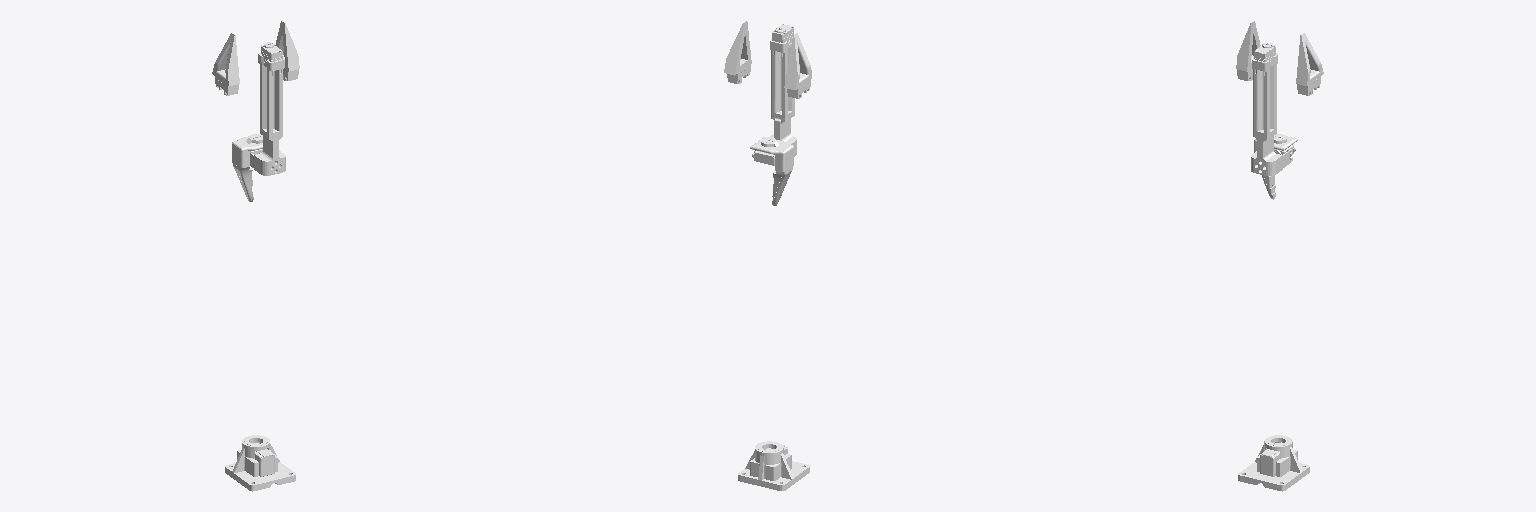
URDF robot description (follower):
<?xml version="1.0" encoding="utf-8"?>
<!-- This URDF was automatically created by SolidWorks to URDF Exporter! Originally created by Stephen Brawner (brawner@gmail.com)
     Commit Version: 1.6.0-4-g7f85cfe  Build Version: 1.6.7995.38578
     For more information, please see http://wiki.ros.org/sw_urdf_exporter -->
<robot
  name="follower">
  <link
    name="base_link">
    <inertial>
      <origin
        xyz="0.00068288 -0.00079484 0.029085"
        rpy="0 0 0" />
      <mass
        value="0.1139" />
      <inertia
        ixx="5.834E-05"
        ixy="-1.1E-07"
        ixz="-1.58E-06"
        iyy="6.491E-05"
        iyz="-2.14E-06"
        izz="5.176E-05" />
    </inertial>
    <visual>
      <origin
        xyz="0 0 0"
        rpy="0 0 0" />
      <geometry>
        <mesh
          filename="package://follower/meshes/base_link.STL" />
      </geometry>
      <material
        name="">
        <color
          rgba="1 1 1 1" />
      </material>
    </visual>
    <collision>
      <origin
        xyz="0 0 0"
        rpy="0 0 0" />
      <geometry>
        <mesh
          filename="package://follower/meshes/base_link.STL" />
      </geometry>
    </collision>
  </link>
  <link
    name="link_1">
    <inertial>
      <origin
        xyz="-0.023682 0.16131 -0.00087342"
        rpy="0 0 0" />
      <mass
        value="0.1468" />
      <inertia
        ixx="0.0009994"
        ixy="0.00019641"
        ixz="-2.22E-06"
        iyy="8.828E-05"
        iyz="8.03E-06"
        izz="0.0010447" />
    </inertial>
    <visual>
      <origin
        xyz="0 0 0"
        rpy="0 0 0" />
      <geometry>
        <mesh
          filename="package://follower/meshes/link_1.STL" />
      </geometry>
      <material
        name="">
        <color
          rgba="1 1 1 1" />
      </material>
    </visual>
    <collision>
      <origin
        xyz="0 0 0"
        rpy="0 0 0" />
      <geometry>
        <mesh
          filename="package://follower/meshes/link_1.STL" />
      </geometry>
    </collision>
  </link>
  <joint
    name="joint_1"
    type="revolute">
    <origin
      xyz="0 0 0.0481100018730678"
      rpy="1.5707963267949 0 -1.5707963267949" />
    <parent
      link="base_link" />
    <child
      link="link_1" />
    <axis
      xyz="0 0 1" />
    <limit
      lower="-2.6485"
      upper="2.6485"
      effort="4.9008"
      velocity="8.95" />
    <dynamics
      damping="0.62275"
      friction="0.67385" />
  </joint>
  <link
    name="link_2">
    <inertial>
      <origin
        xyz="0.037783 0.16226 -0.00087726"
        rpy="0 0 0" />
      <mass
        value="0.1467" />
      <inertia
        ixx="0.0014513"
        ixy="-7.61E-05"
        ixz="4.1E-07"
        iyy="4.144E-05"
        iyz="1.015E-05"
        izz="0.0014495" />
    </inertial>
    <visual>
      <origin
        xyz="0 0 0"
        rpy="0 0 0" />
      <geometry>
        <mesh
          filename="package://follower/meshes/link_2.STL" />
      </geometry>
      <material
        name="">
        <color
          rgba="1 1 1 1" />
      </material>
    </visual>
    <collision>
      <origin
        xyz="0 0 0"
        rpy="0 0 0" />
      <geometry>
        <mesh
          filename="package://follower/meshes/link_2.STL" />
      </geometry>
    </collision>
  </link>
  <joint
    name="joint_2"
    type="revolute">
    <origin
      xyz="-0.0409799981269002 0.231400000000016 -0.000499999999999952"
      rpy="0 0 0" />
    <parent
      link="link_1" />
    <child
      link="link_2" />
    <axis
      xyz="0 0 1" />
    <limit
      lower="0"
      upper="3.4907"
      effort="3.4305"
      velocity="4.72" />
    <dynamics
      damping="0.72763"
      friction="0.17591" />
  </joint>
  <link
    name="link_3">
    <inertial>
      <origin
        xyz="0 0.017321 0"
        rpy="0 0 0" />
      <mass
        value="0.019" />
      <inertia
        ixx="6.84E-06"
        ixy="0"
        ixz="0"
        iyy="6.18E-06"
        iyz="0"
        izz="2.16E-06" />
    </inertial>
    <visual>
      <origin
        xyz="0 0 0"
        rpy="0 0 0" />
      <geometry>
        <mesh
          filename="package://follower/meshes/link_3.STL" />
      </geometry>
      <material
        name="">
        <color
          rgba="1 1 1 1" />
      </material>
    </visual>
    <collision>
      <origin
        xyz="0 0 0"
        rpy="0 0 0" />
      <geometry>
        <mesh
          filename="package://follower/meshes/link_3.STL" />
      </geometry>
    </collision>
  </link>
  <joint
    name="joint_3"
    type="revolute">
    <origin
      xyz="0.0409799999999935 0.248610001873116 -0.000500000000000904"
      rpy="0 0 0" />
    <parent
      link="link_2" />
    <child
      link="link_3" />
    <axis
      xyz="0 0 1" />
    <limit
      lower="-2.6485"
      upper="2.6485"
      effort="3.4305"
      velocity="4.72" />
    <dynamics
      damping="0.72763"
      friction="0.17591" />
  </joint>
  <link
    name="link_4">
    <inertial>
      <origin
        xyz="-1.18E-05 0.020374 -0.054225"
        rpy="0 0 0" />
      <mass
        value="0.2979" />
      <inertia
        ixx="0.00063406"
        ixy="-1.82E-06"
        ixz="0"
        iyy="0.00052977"
        iyz="7.863E-05"
        izz="0.00075535" />
    </inertial>
    <visual>
      <origin
        xyz="0 0 0"
        rpy="0 0 0" />
      <geometry>
        <mesh
          filename="package://follower/meshes/link_4.STL" />
      </geometry>
      <material
        name="">
        <color
          rgba="1 1 1 1" />
      </material>
    </visual>
    <collision>
      <origin
        xyz="0 0 0"
        rpy="0 0 0" />
      <geometry>
        <mesh
          filename="package://follower/meshes/link_4.STL" />
      </geometry>
    </collision>
  </link>
  <joint
    name="joint_4"
    type="revolute">
    <origin
      xyz="0 0.0259 0"
      rpy="1.57079632679489 -1.5707963267949 0" />
    <parent
      link="link_3" />
    <child
      link="link_4" />
    <axis
      xyz="0 0 1" />
    <limit
      lower="-3.1416"
      upper="3.1416"
      effort="3.4305"
      velocity="4.72" />
    <dynamics
      damping="0.72763"
      friction="0.17591" />
  </joint>
  <link
    name="link_5_left">
    <inertial>
      <origin
        xyz="0.00017417 0.00523866 -0.01011567"
        rpy="0 0 0" />
      <mass
        value="0.02262" />
      <inertia
        ixx="1.044E-05"
        ixy="2.2E-07"
        ixz="-3E-08"
        iyy="4.16E-06"
        iyz="6E-07"
        izz="1.337E-05" />
    </inertial>
    <visual>
      <origin
        xyz="0 0 0"
        rpy="0 0 0" />
      <geometry>
        <mesh
          filename="package://follower/meshes/link_5_left.STL" />
      </geometry>
      <material
        name="">
        <color
          rgba="1 1 1 1" />
      </material>
    </visual>
    <collision>
      <origin
        xyz="0 0 0"
        rpy="0 0 0" />
      <geometry>
        <mesh
          filename="package://follower/meshes/link_5_left.STL" />
      </geometry>
    </collision>
  </link>
  <joint
    name="joint_5_left"
    type="prismatic">
    <origin
      xyz="-0.061275 0 -0.1047"
      rpy="-1.5708 0 1.5708" />
    <parent
      link="link_4" />
    <child
      link="link_5_left" />
    <axis
      xyz="0 0 1" />
    <limit
      lower="-42.25"
      upper="0"
      effort="1.3918"
      velocity="10.47" />
  </joint>
  <link
    name="link_5_right">
    <inertial>
      <origin
        xyz="-0.00017416 0.00523866 -0.01011567"
        rpy="0 0 0" />
      <mass
        value="0.02262" />
      <inertia
        ixx="1.044E-05"
        ixy="-2.2E-07"
        ixz="3E-08"
        iyy="4.16E-06"
        iyz="6E-07"
        izz="1.337E-05" />
    </inertial>
    <visual>
      <origin
        xyz="0 0 0"
        rpy="0 0 0" />
      <geometry>
        <mesh
          filename="package://follower/meshes/link_5_right.STL" />
      </geometry>
      <material
        name="">
        <color
          rgba="1 1 1 1" />
      </material>
    </visual>
    <collision>
      <origin
        xyz="0 0 0"
        rpy="0 0 0" />
      <geometry>
        <mesh
          filename="package://follower/meshes/link_5_right.STL" />
      </geometry>
    </collision>
  </link>
  <joint
    name="joint_5_right"
    type="prismatic">
    <origin
      xyz="0.061275 0 -0.1047"
      rpy="-1.5708 0 -1.5708" />
    <parent
      link="link_4" />
    <child
      link="link_5_right" />
    <axis
      xyz="0 0 -1" />
    <limit
      lower="0"
      upper="42.25"
      effort="1.3918"
      velocity="10.47" />
    <mimic
      joint="joint_5_left"
      multiplier="-1"
      offset="0" />
  </joint>
</robot>

--- Facts derived from the render (not from the file) ---
3 views of the same robot in one strip: view 1: azimuth 30°, elevation 25°; view 2: azimuth 150°, elevation 25°; view 3: azimuth 330°, elevation 25° (orthographic).
Model follower with 7 links and 6 joints (4 revolute, 2 prismatic), rooted at base_link, posed every joint at zero.
Links seen in each view (by area): view 1: link_3, base_link, link_4, link_5_right, link_5_left; view 2: link_3, base_link, link_4, link_5_right, link_5_left; view 3: link_3, base_link, link_5_left, link_5_right, link_4.
Boxes of the visible links, x1,y1,x2,y2 form: link_3: (250,42,285,175); base_link: (225,435,295,491); link_4: (232,134,262,201); link_5_right: (212,33,239,95); link_5_left: (275,21,299,80); link_3: (755,24,796,156); base_link: (738,441,809,490); link_4: (750,137,793,205); link_5_right: (784,33,811,98); link_5_left: (724,20,751,83); link_3: (1251,43,1292,175); base_link: (1238,435,1309,491); link_5_left: (1296,33,1323,95); link_5_right: (1236,21,1260,80); link_4: (1254,134,1297,199).
Bounding box of the posed robot: 0.1226 × 0.0908 × 0.7367 m (x, y, z).
5 mesh visuals loaded from 7 distinct referenced files (5 binary STL); not drawn: 2 (reference not matched to a file when rendering).
